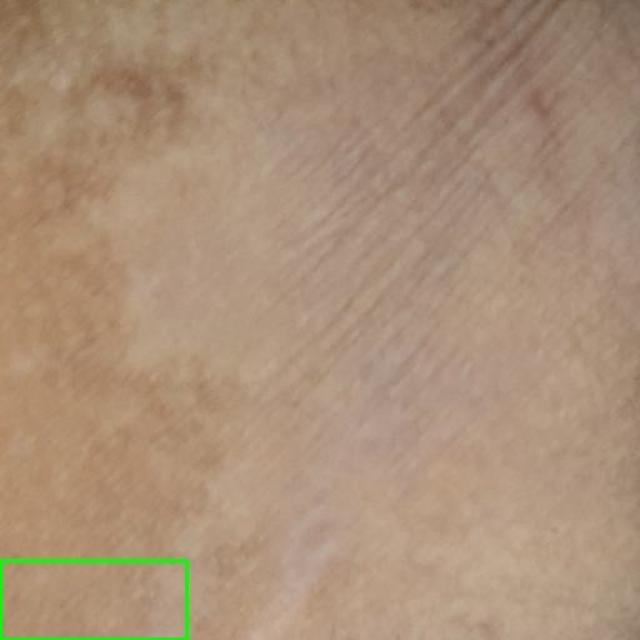Contact Dermatitis: (0, 560, 186, 639)
